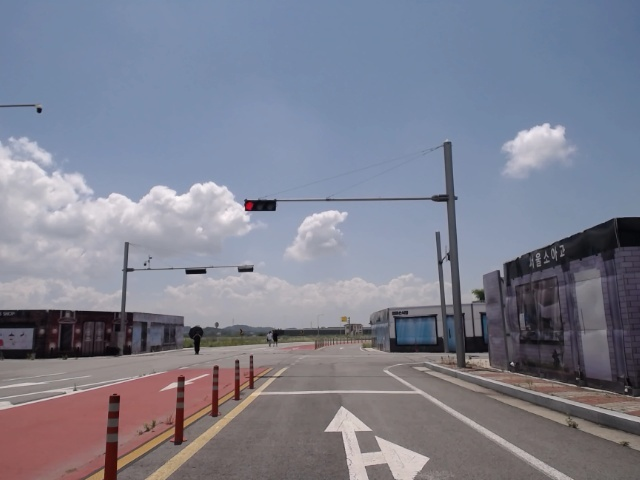red_3: (244, 198, 278, 211)
